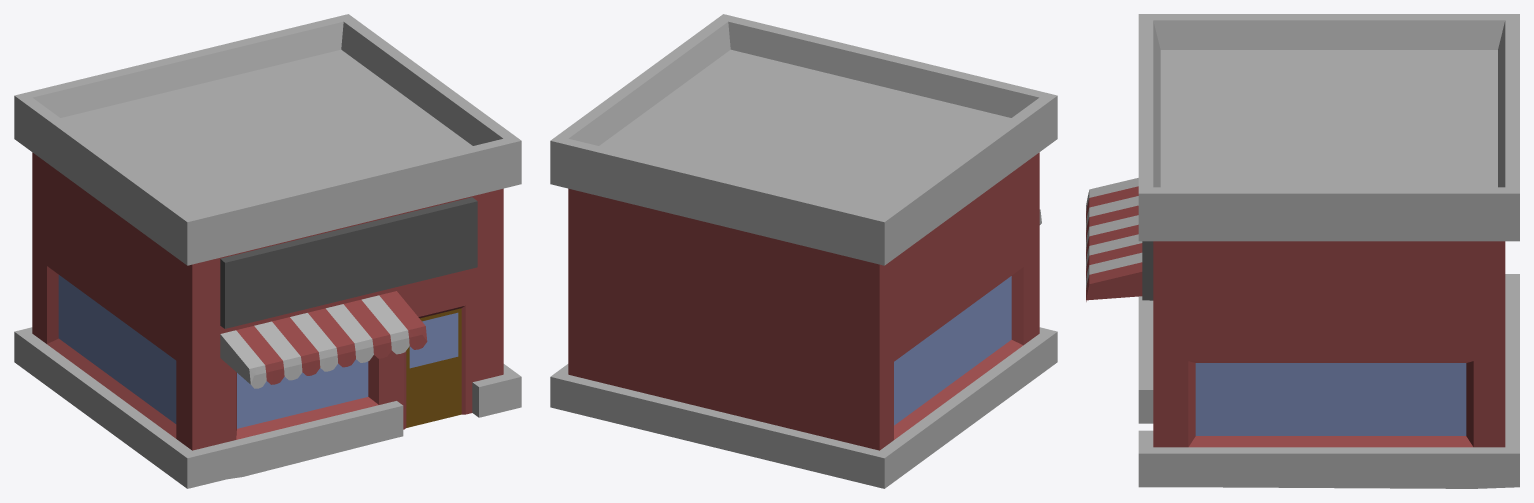
File: store.fbx
3 views of the same model, side by side, from view 1: azimuth 30°, elevation 25°; view 2: azimuth 150°, elevation 25°; view 3: azimuth 270°, elevation 25° (orthographic). The views are drawn at different scales.
Visible parts, largest first — view 1: Store2; view 2: Store2; view 3: Store2.
Part boxes in pixels (<box>): Store2: <box>14,14,521,488</box>; Store2: <box>550,14,1057,488</box>; Store2: <box>1086,14,1519,488</box>.
Size of the model in its own units: 580 by 445 by 592.
